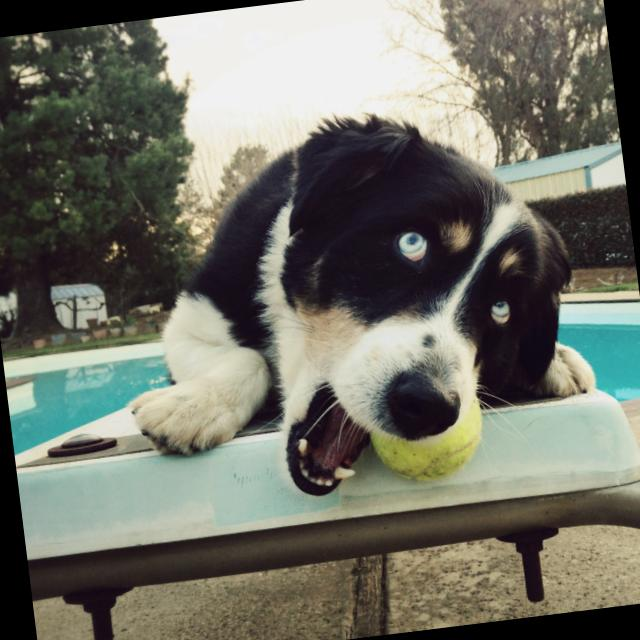Tennis Ball: (367, 396, 486, 484)
